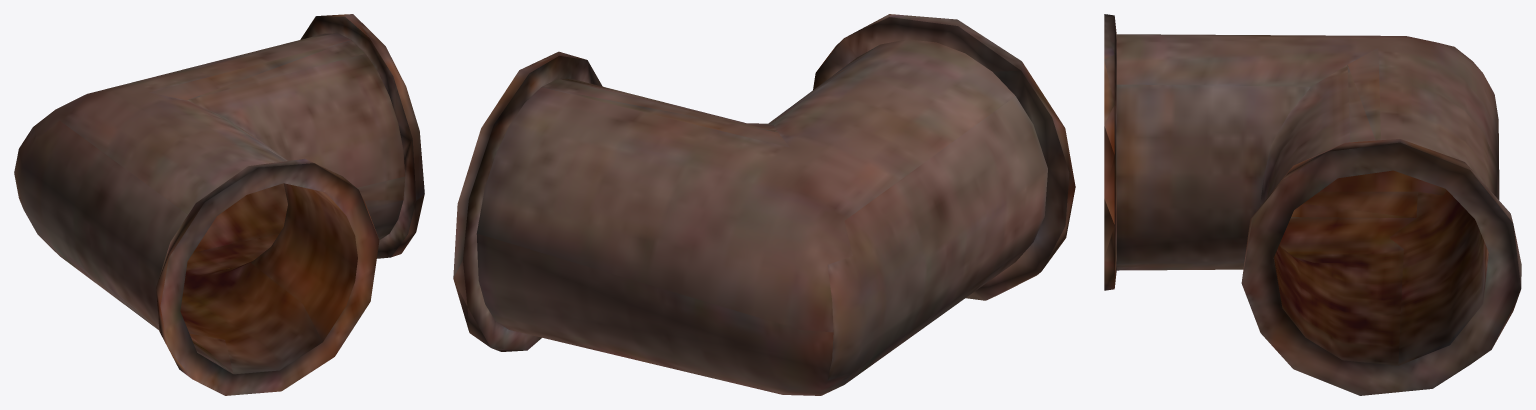
The model's file is rusty_pipe_02.glb.
3 views of the same model, side by side, from view 1: azimuth 30°, elevation 25°; view 2: azimuth 150°, elevation 25°; view 3: azimuth 270°, elevation 25° (orthographic). The views are drawn at different scales.
Parts seen in each view (by area): view 1: rusty_pipe_02; view 2: rusty_pipe_02; view 3: rusty_pipe_02.
Boxes of the visible parts, box(x1,y1,x2,y2) form: rusty_pipe_02: box(14, 14, 424, 395); rusty_pipe_02: box(453, 14, 1075, 395); rusty_pipe_02: box(1104, 14, 1521, 395).
Size of what is drawn, in the model's own units: 0.0428 by 0.0287 by 0.0428.
Materials: 1 (1 with a texture image).
